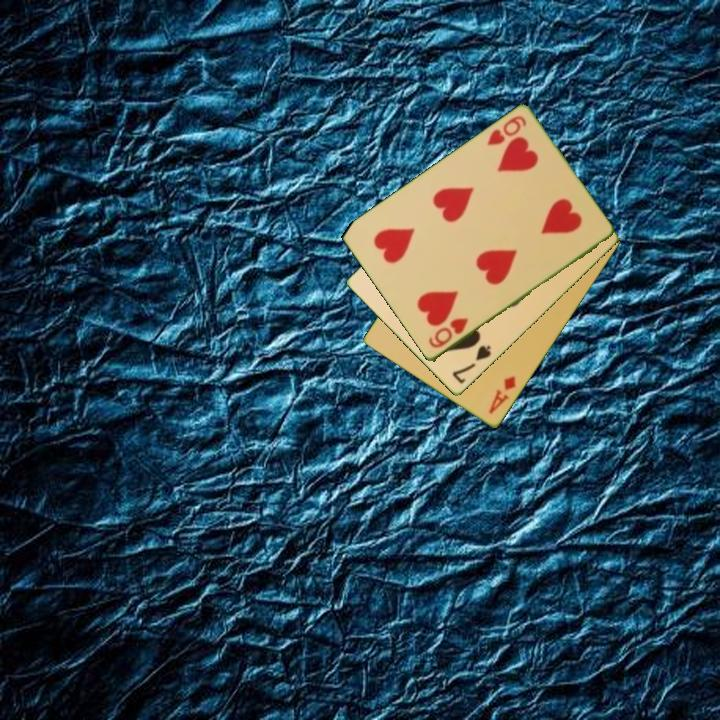6h: (483, 112, 529, 149), (425, 315, 471, 351)
7s: (449, 342, 494, 387)
Ad: (485, 373, 519, 417)
